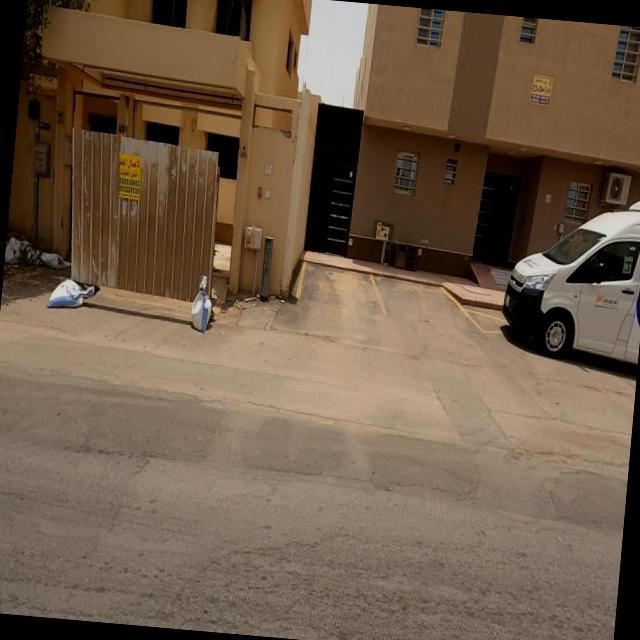debris: (10, 232, 124, 362), (157, 232, 246, 373), (1, 202, 76, 304)
